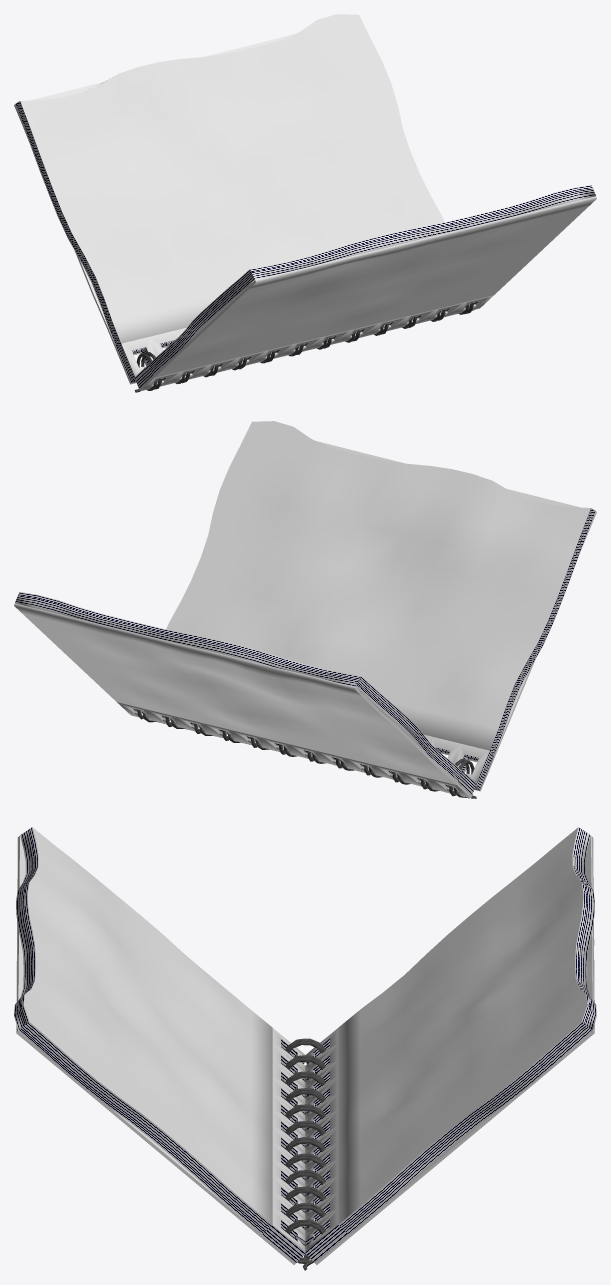
File: Jasinto90.fbx
3 views of the same model, one above another, from view 1: azimuth 30°, elevation 25°; view 2: azimuth 150°, elevation 25°; view 3: azimuth 270°, elevation 25° (orthographic). The views are drawn at different scales.
Parts seen in each view (by area): view 1: Cover Top.039, Rings; view 2: Cover Top.039, Rings; view 3: Cover Top.039, Rings.
Boxes of the visible parts, x1,y1,x2,y2 form: Cover Top.039: (14,14,596,391); Rings: (134,302,474,392); Cover Top.039: (14,421,596,798); Rings: (137,709,476,798); Cover Top.039: (14,827,596,1264); Rings: (285,1038,325,1270).
Bounding box in the file's own units: 290 × 171 × 355.
4 materials, 2 textured.
